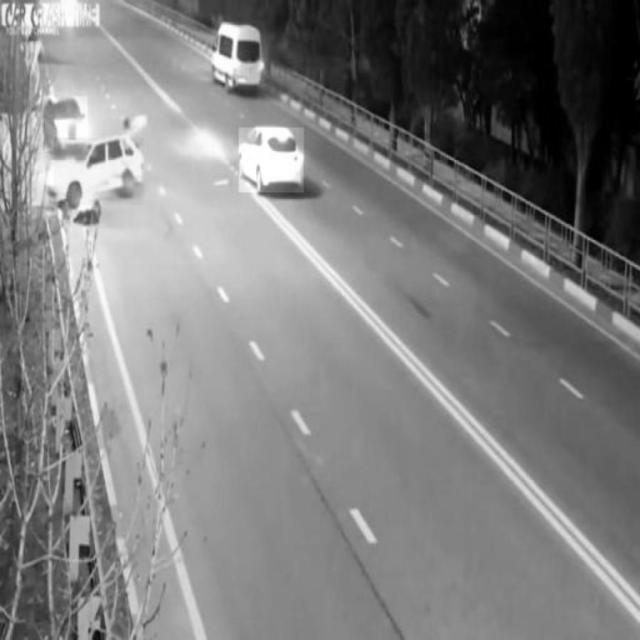vehicle: (54, 137, 144, 205), (239, 127, 303, 193), (211, 21, 265, 89), (45, 97, 87, 152)
